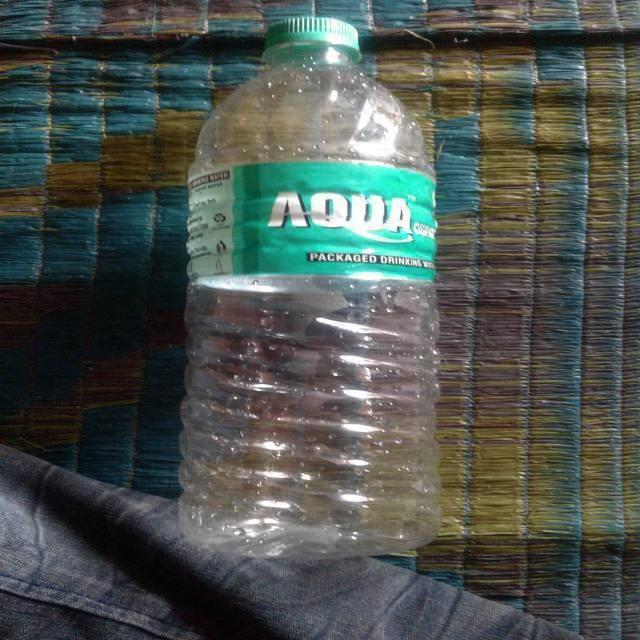bottle: (179, 16, 442, 562)
